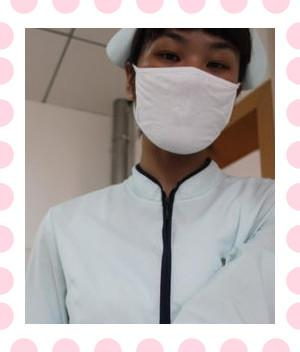OK: (130, 35, 245, 150)
